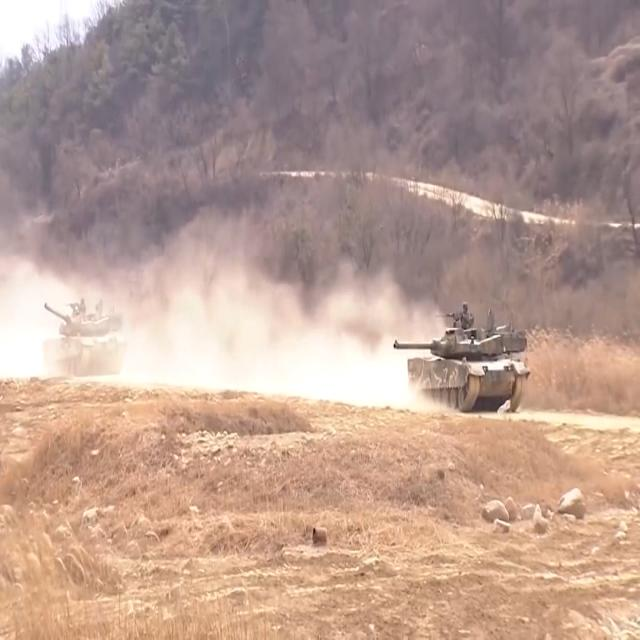korea tank: (392, 296, 532, 413)
